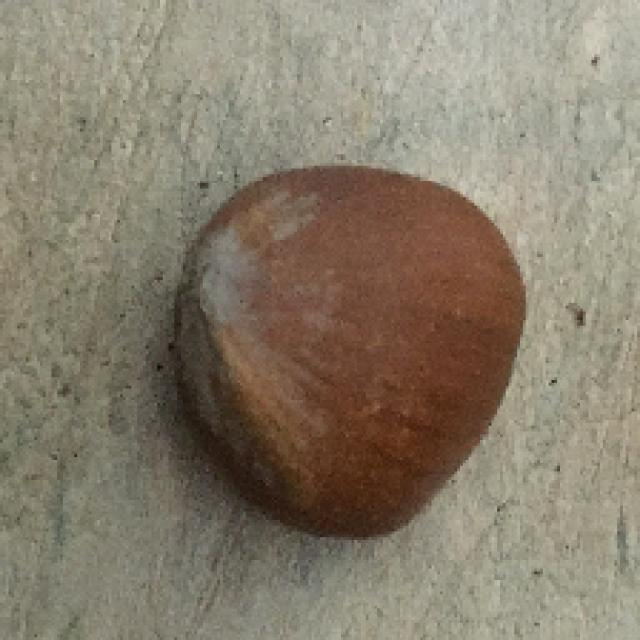QualityHazelnut: (164, 165, 531, 541)
